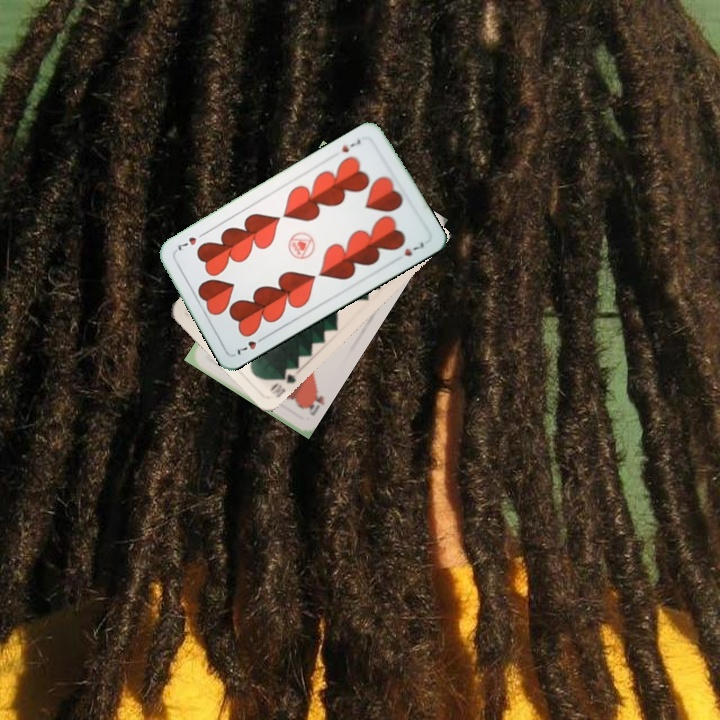G10: (266, 366, 299, 400)
H7: (233, 332, 268, 358), (338, 135, 363, 155)
HO: (299, 384, 327, 418)
